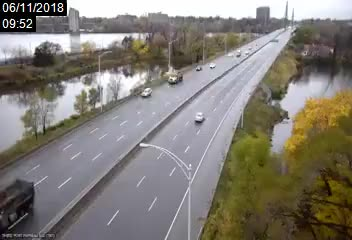personal_car: (192, 109, 204, 123), (141, 87, 152, 98), (207, 61, 215, 68), (195, 65, 201, 72)
truck: (1, 177, 39, 231), (169, 71, 184, 86)
